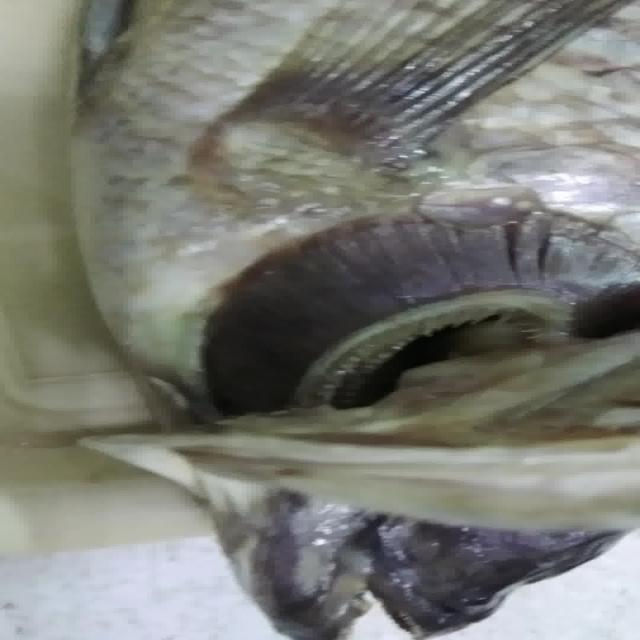Non-Fresh: (167, 183, 640, 412)
